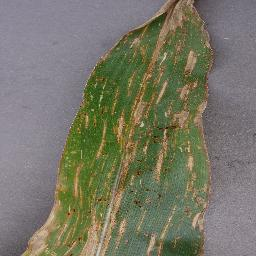Gray_Leaf_Spot: (19, 0, 219, 256)
